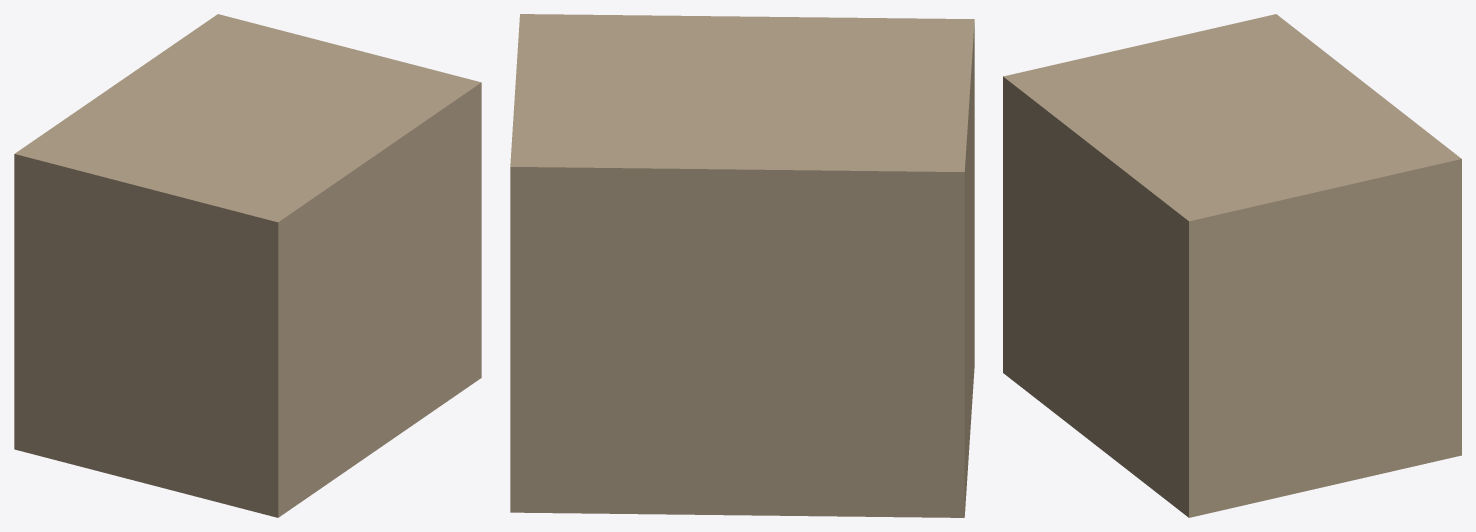
Rendered from bld_109034775.dae.
3 views of the same model, side by side, from view 1: azimuth 30°, elevation 25°; view 2: azimuth 150°, elevation 25°; view 3: azimuth 270°, elevation 25° (orthographic). The views are drawn at different scales.
Parts seen in each view (by area): view 1: bld_109034775; view 2: bld_109034775; view 3: bld_109034775.
Boxes of the visible parts, x1=… form: bld_109034775: x1=14, y1=14, x2=481, y2=517; bld_109034775: x1=510, y1=14, x2=974, y2=517; bld_109034775: x1=1003, y1=14, x2=1461, y2=517.
Bounding box in the file's own units: 12 × 11.21 × 8.
